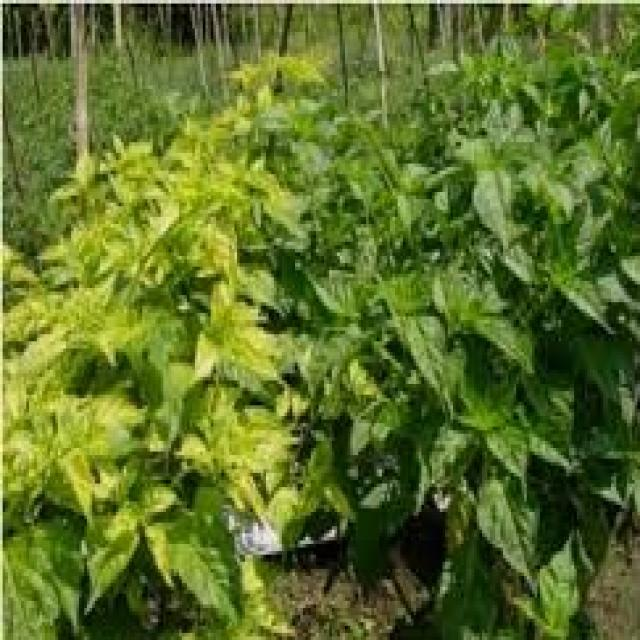virus_kuning: (60, 443, 93, 536)
